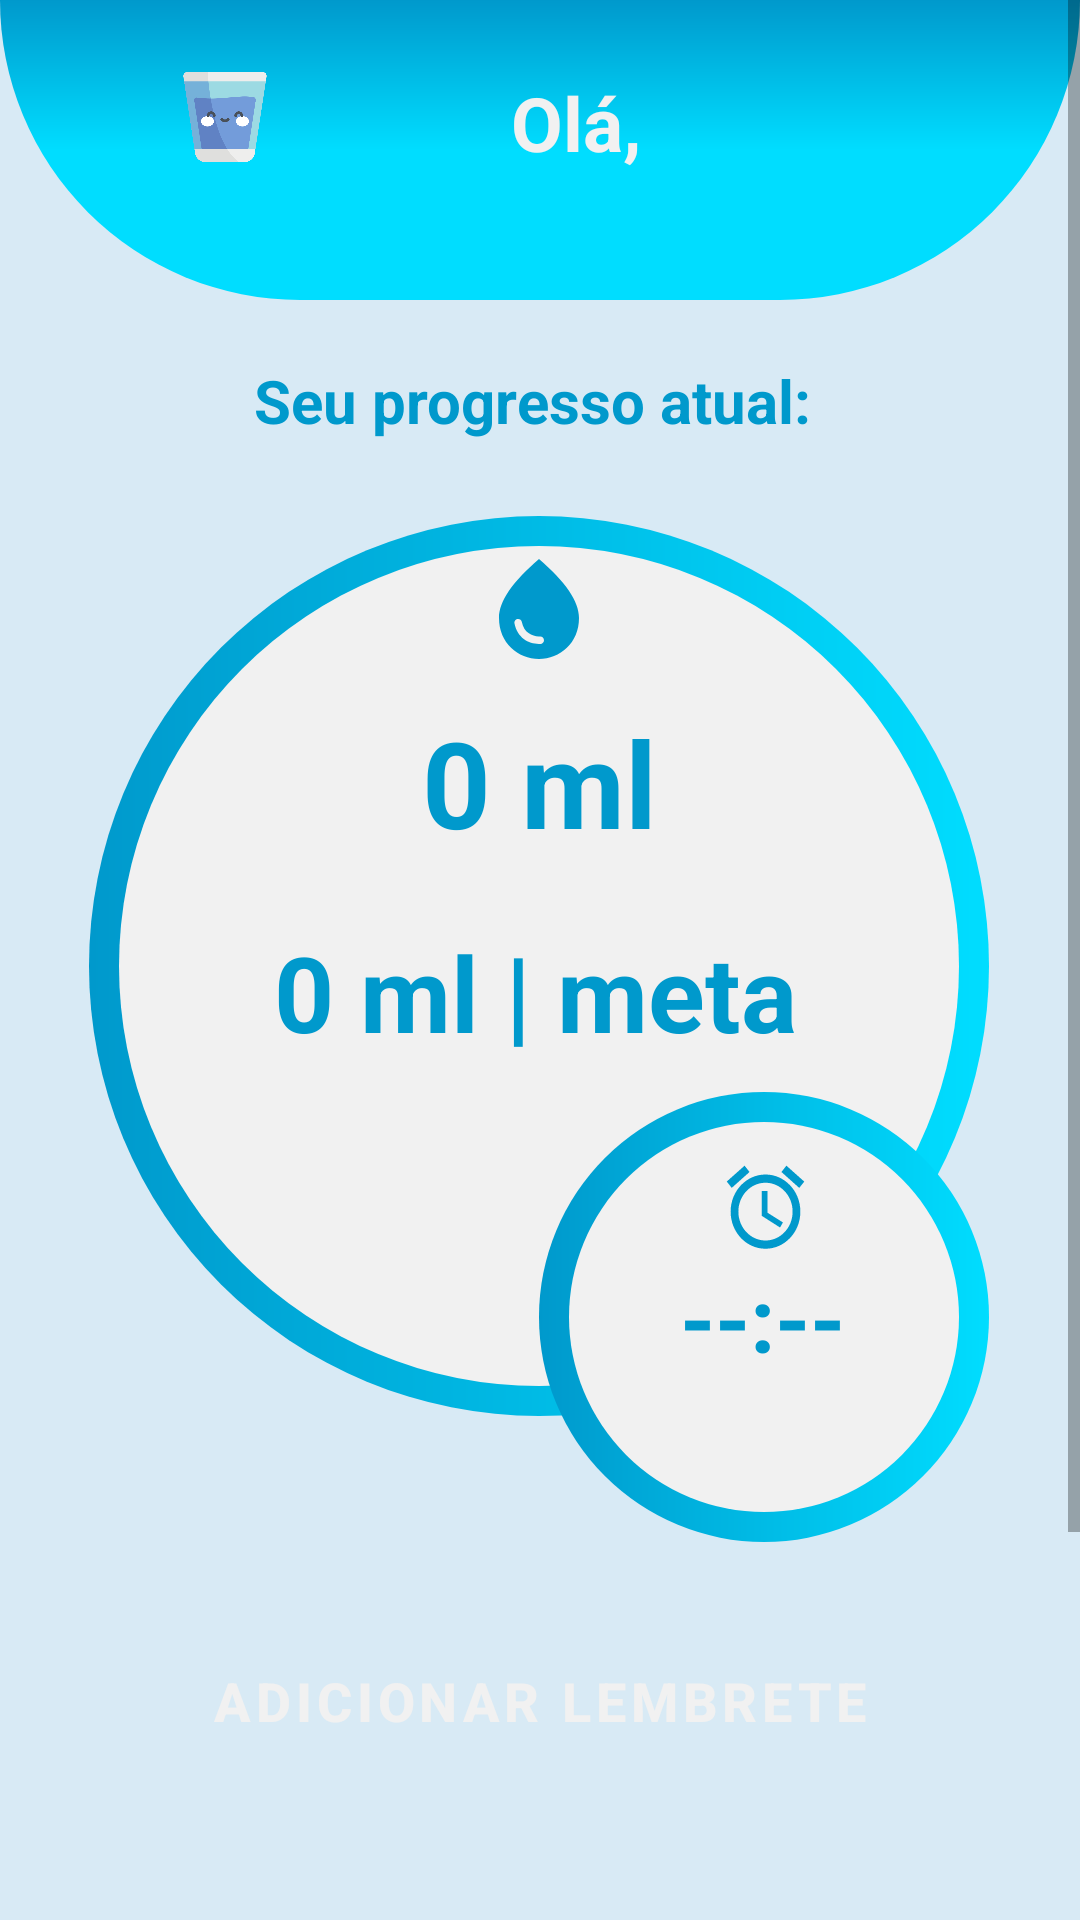

Screen size 1080×1920. Icon name, then its box in pixels as detection(x1, y1, x2, y2):
water drop: detection(499, 559, 579, 659)
